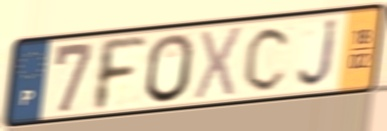7: (52, 41, 95, 115)
C: (241, 23, 294, 94)
F: (93, 35, 150, 114)
J: (295, 15, 341, 91)
O: (144, 31, 196, 106)
X: (191, 23, 246, 103)
